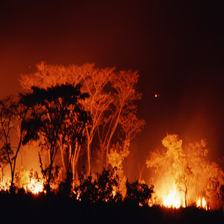fire: (131, 146, 214, 217), (7, 154, 81, 203)
